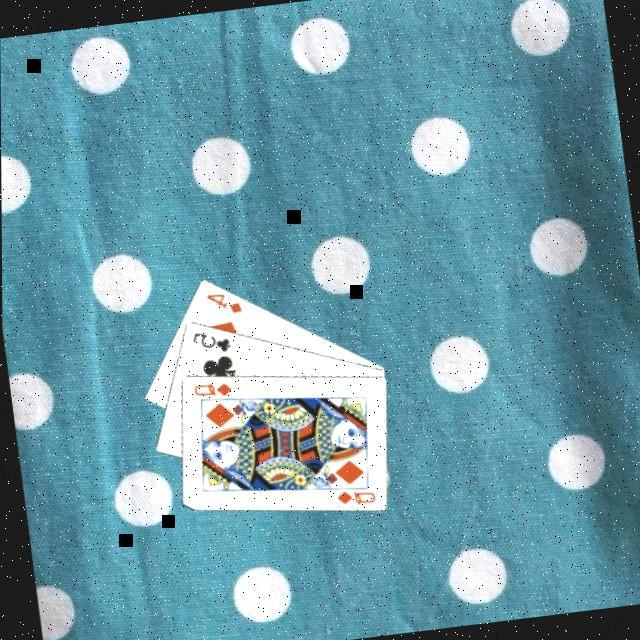4D: (202, 285, 245, 318)
5C: (187, 322, 234, 356)
QD: (189, 374, 235, 400), (332, 481, 378, 507)
